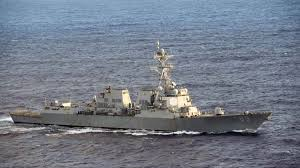tau_muctieu: (11, 56, 270, 135)
